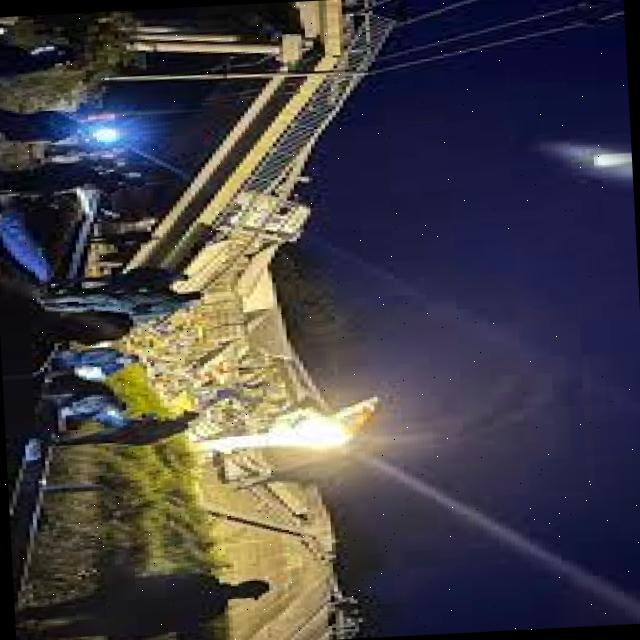bridge collapse: (67, 0, 464, 547)
